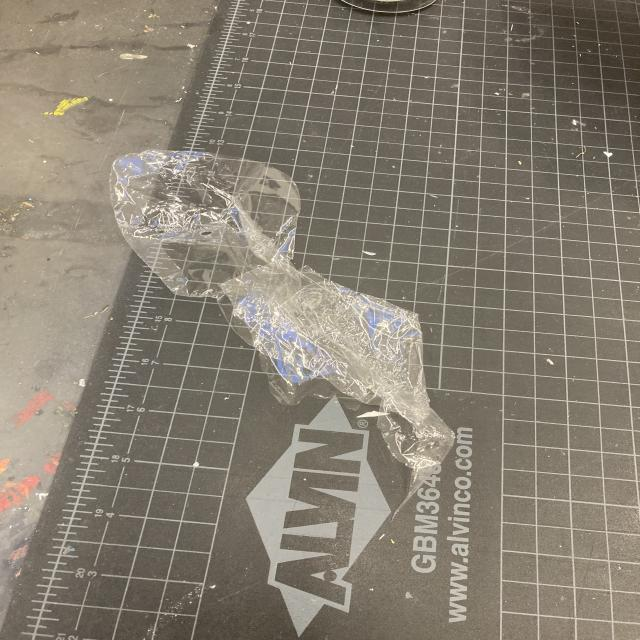plastic: (97, 136, 464, 484)
trash-zQNu: (97, 136, 472, 484)
